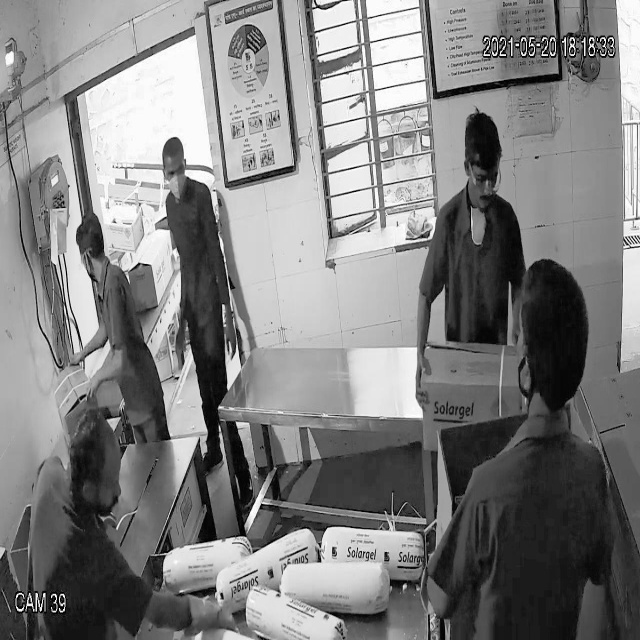Gafas: (467, 160, 505, 192)
Sin_gafas: (163, 163, 187, 179)
